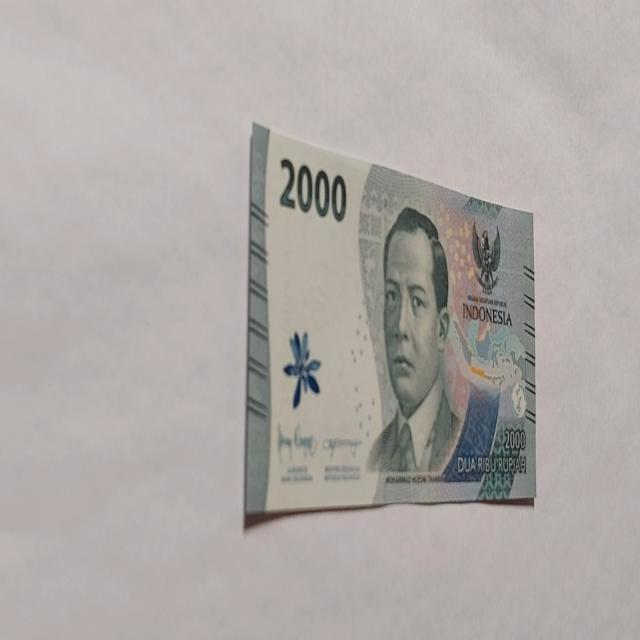dua ribu rupiah: (245, 121, 538, 523), (364, 204, 462, 476)
